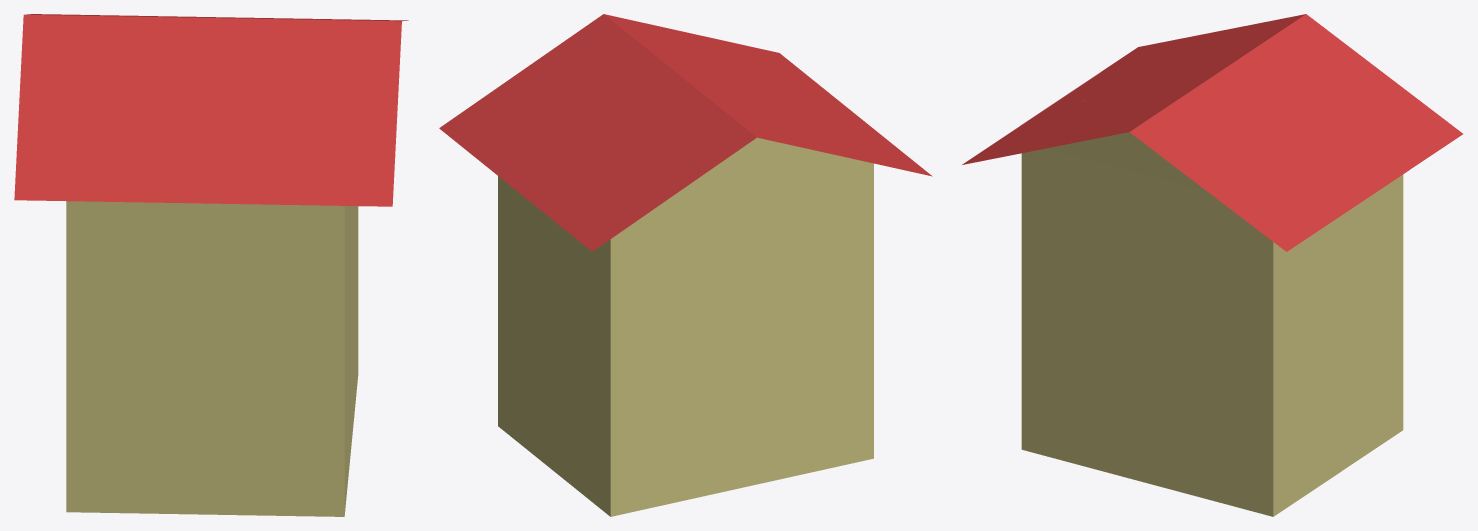
The picture shows the model from 3 angles, left to right: view 1: azimuth 30°, elevation 25°; view 2: azimuth 150°, elevation 25°; view 3: azimuth 270°, elevation 25°; orthographic projection. The views are drawn at different scales.
Bounding box in the file's own units: 8.32 × 8.6 × 6.96.
